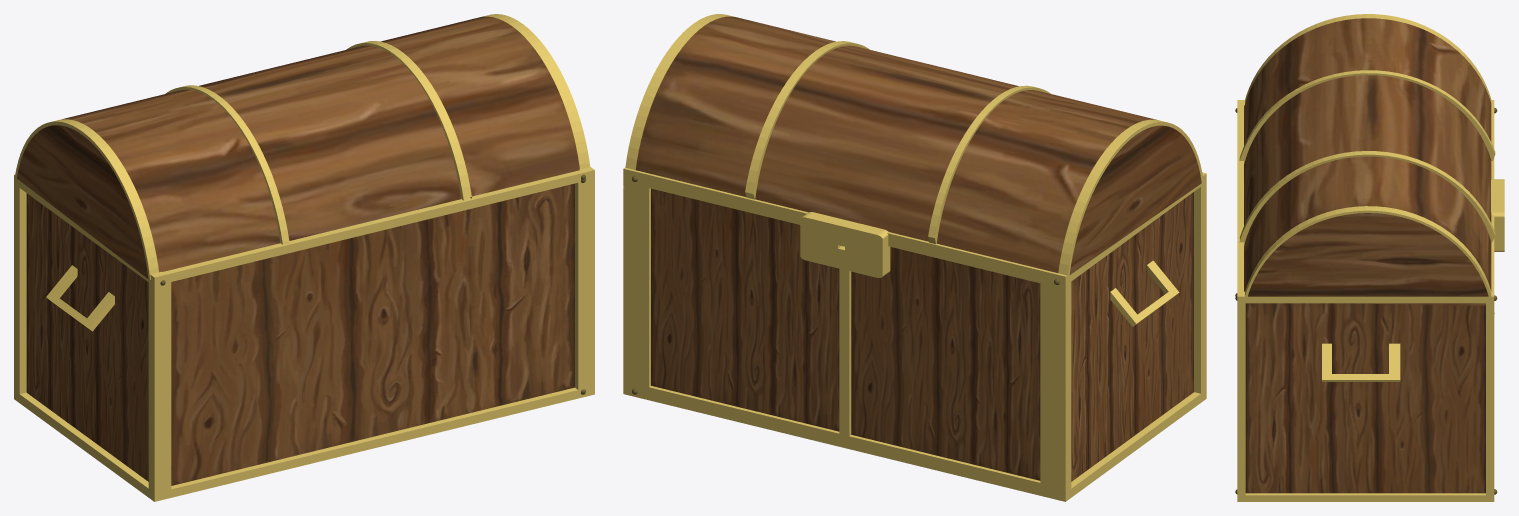
3 views of the same model, side by side, from view 1: azimuth 30°, elevation 25°; view 2: azimuth 150°, elevation 25°; view 3: azimuth 270°, elevation 25° (orthographic). The views are drawn at different scales.
Visible parts, largest first — view 1: Cube, Cylinder, Cube.003; view 2: Cube, Cylinder, Cube.001, Cube.003; view 3: Cylinder, Cube, Cube.002, Cube.001.
Part boxes in pixels (<box>): Cube: <box>14,167,594,501</box>; Cylinder: <box>15,14,590,279</box>; Cube.003: <box>46,265,114,331</box>; Cube: <box>623,167,1206,501</box>; Cylinder: <box>623,14,1203,275</box>; Cube.001: <box>800,212,890,277</box>; Cube.003: <box>1110,260,1179,326</box>; Cylinder: <box>1239,14,1495,313</box>; Cube: <box>1237,100,1494,501</box>; Cube.002: <box>1322,343,1400,381</box>; Cube.001: <box>1491,179,1504,251</box>.
Size of the model in its own units: 3.96 by 2.52 by 2.09.
Materials: 5 (1 with a texture image).
